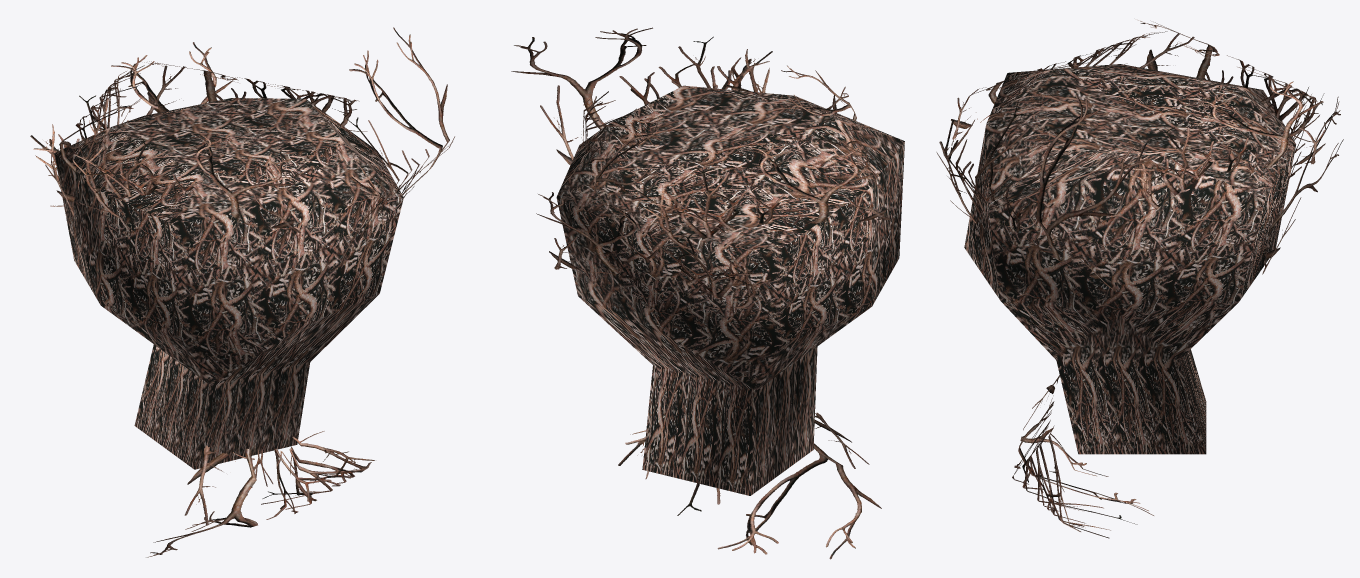
File: poi_all_lair_thicket_large_l3.fbx
The picture shows the model from 3 angles, left to right: view 1: azimuth 30°, elevation 25°; view 2: azimuth 150°, elevation 25°; view 3: azimuth 270°, elevation 25°; orthographic projection. The views are drawn at different scales.
Visible parts, largest first — view 1: mesh_node; view 2: mesh_node; view 3: mesh_node.
Boxes of the visible parts, x1=… form: mesh_node: x1=30, y1=27, x2=454, y2=557; mesh_node: x1=511, y1=27, x2=904, y2=559; mesh_node: x1=936, y1=20, x2=1343, y2=538.
Size of the model in its own units: 4.51 by 5.06 by 3.87.
